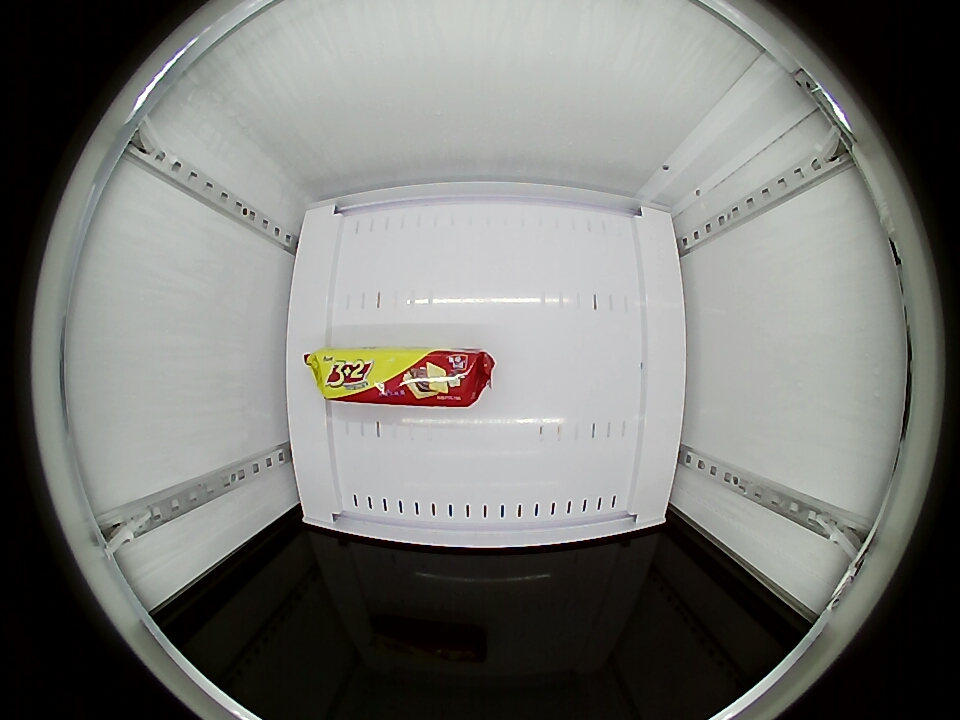3jia2: (312, 347, 490, 407)
